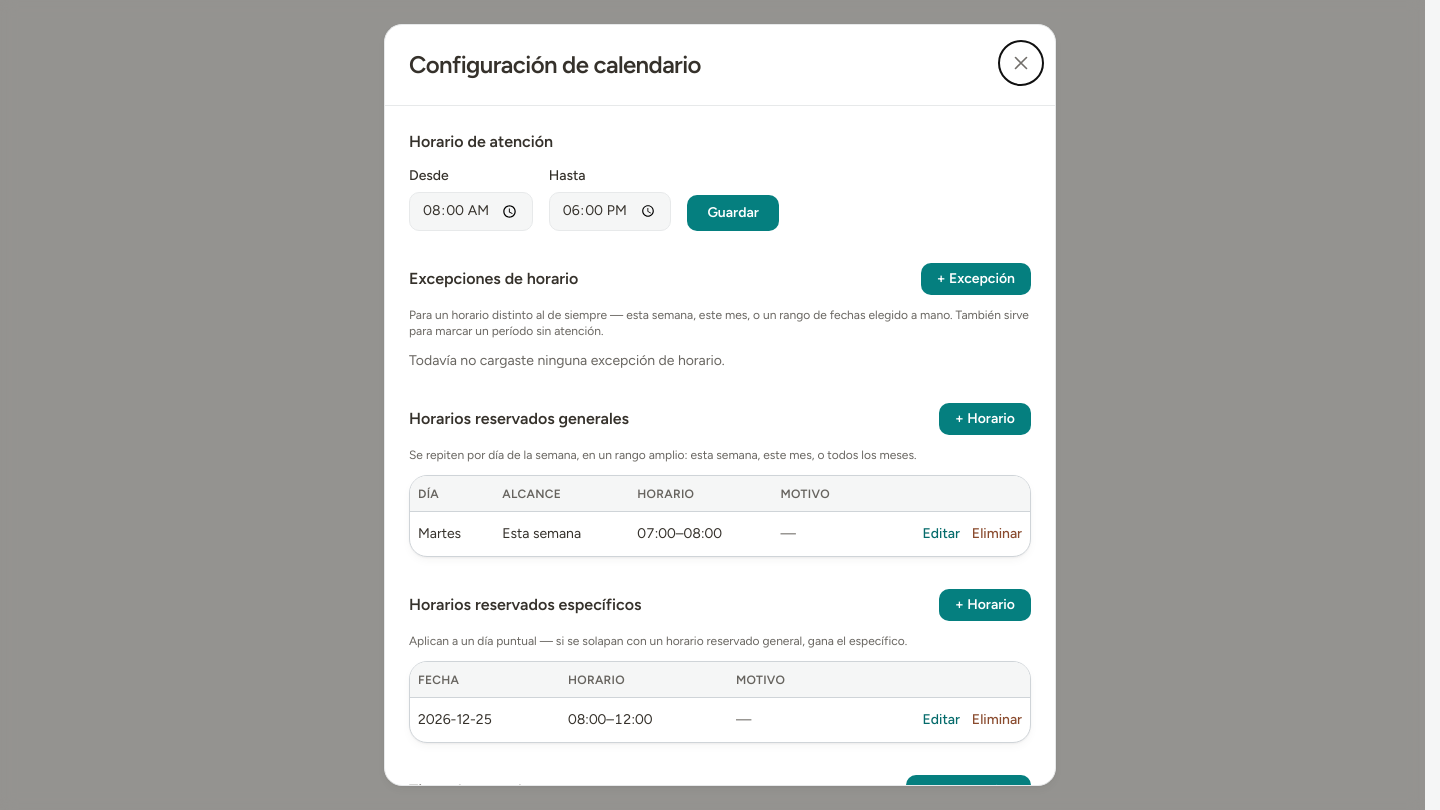
Test: ConfiguracionCalendarioModal › Excepciones de horario › agrega una excepción nueva
Expected: the text "Todavía no cargaste ninguna excepción de horario." is shown, [409,352,725,369]
Click the button "+ Excepción".
click(976, 279)  # box [921,263,1031,295]
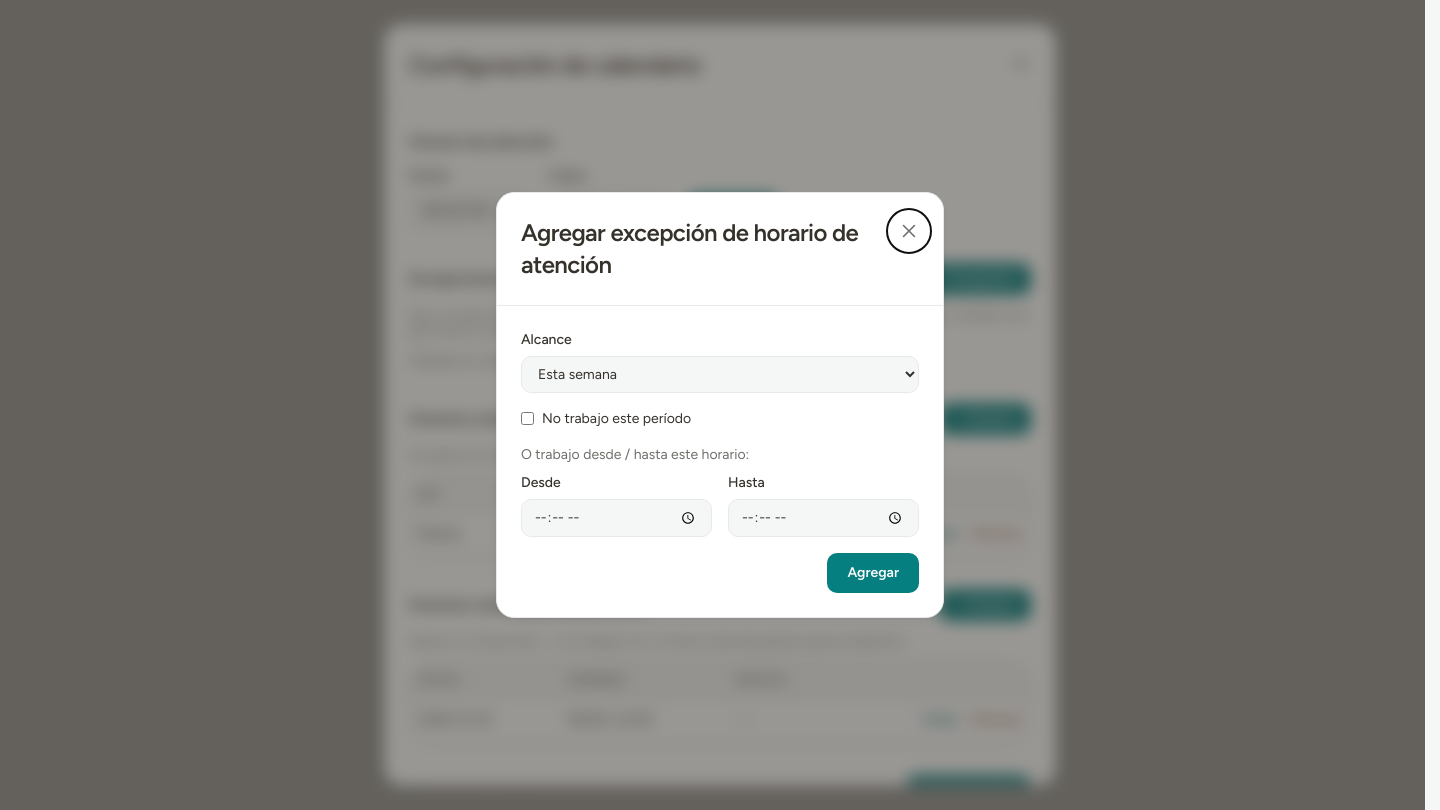
Type "09:00" into the time field labelled "Desde".
click(616, 518); type("09:00")  # box [521,499,712,537]
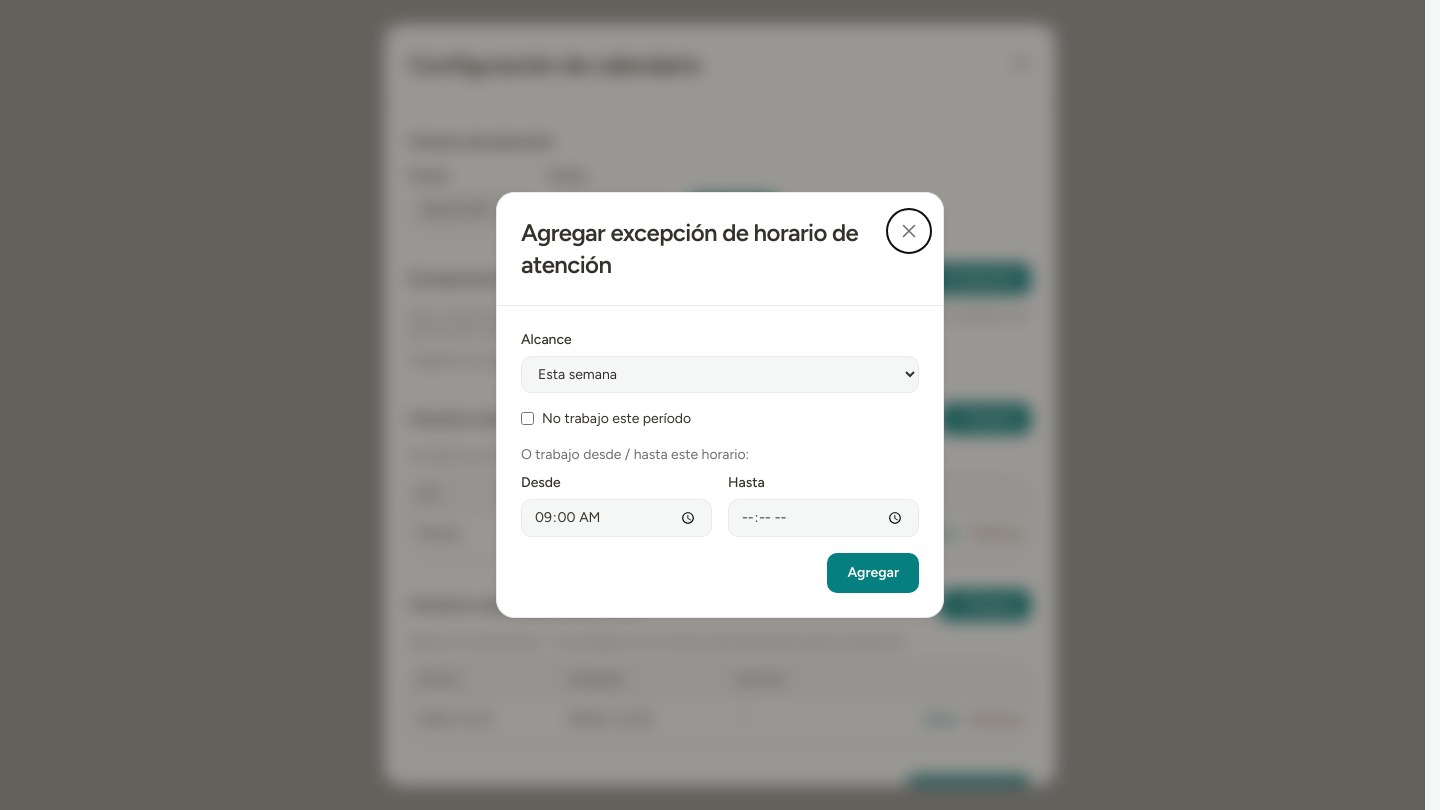
Type "13:00" into the time field labelled "Hasta".
click(824, 518); type("13:00")  # box [728,499,919,537]
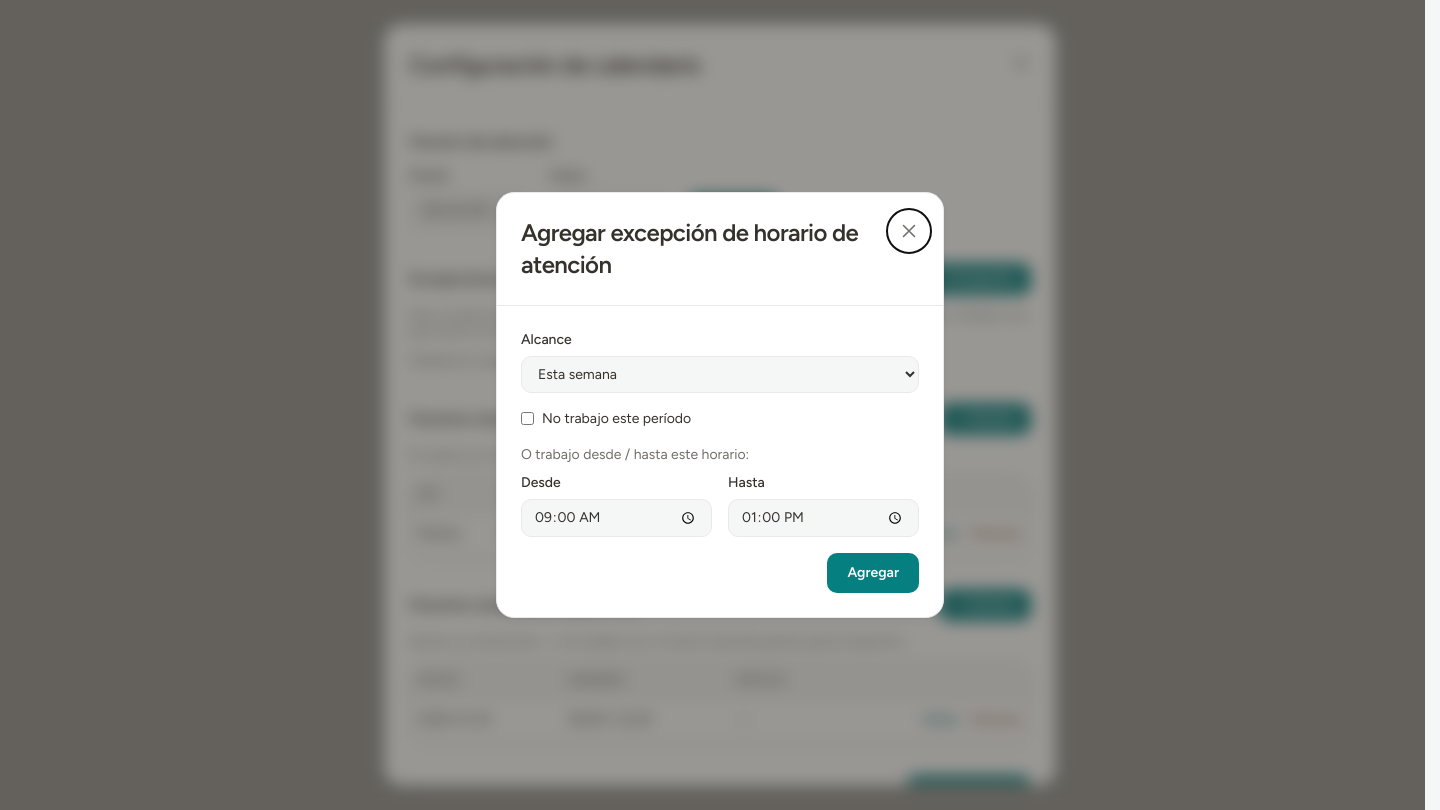
Click the button "Agregar".
click(873, 573)  # box [827,553,919,593]
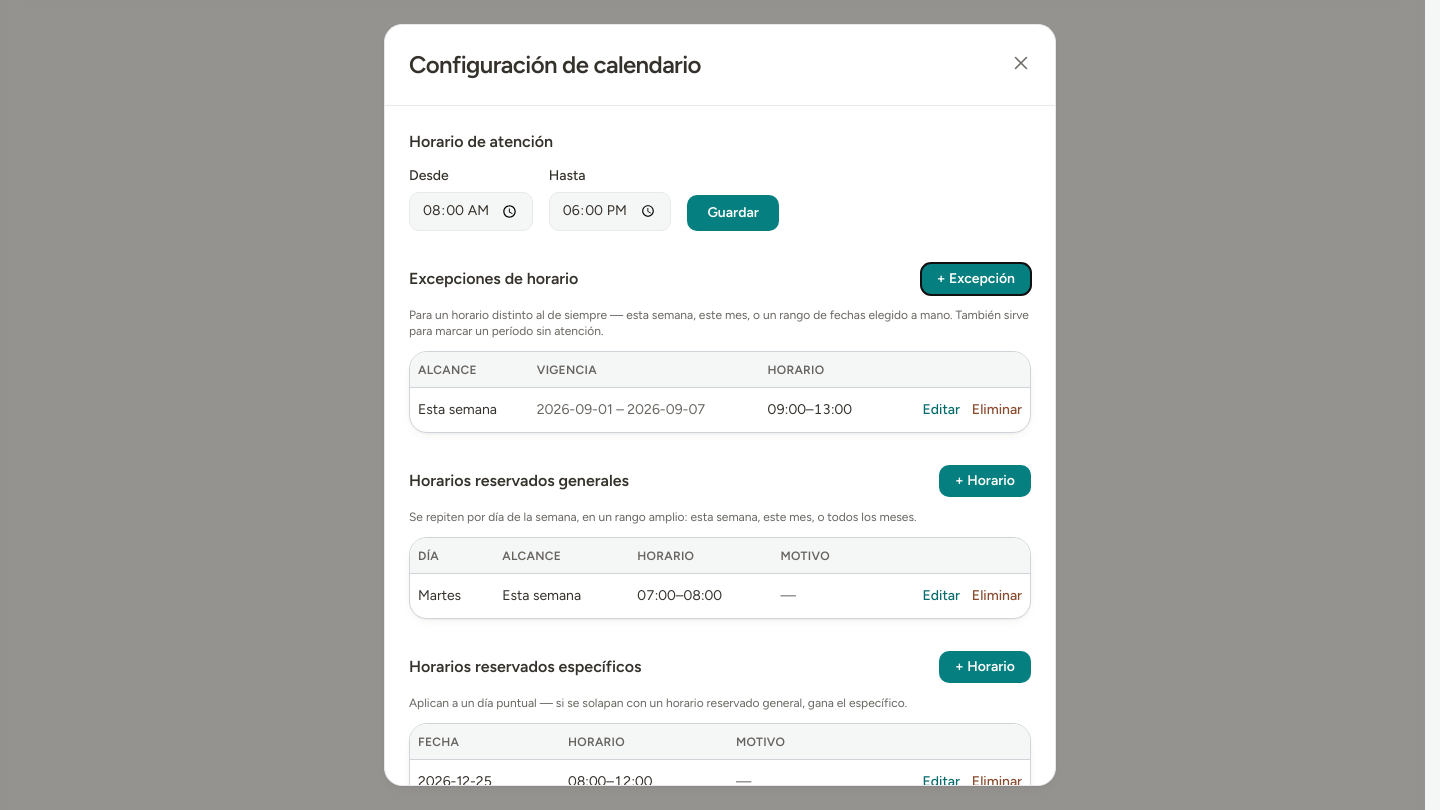
Result: the heading "Agregar excepción de horario de atención" is gone
Result: the text "Esta semana" next to "2026-09-01 – 2026-09-07" is shown at [418,401,497,418]
